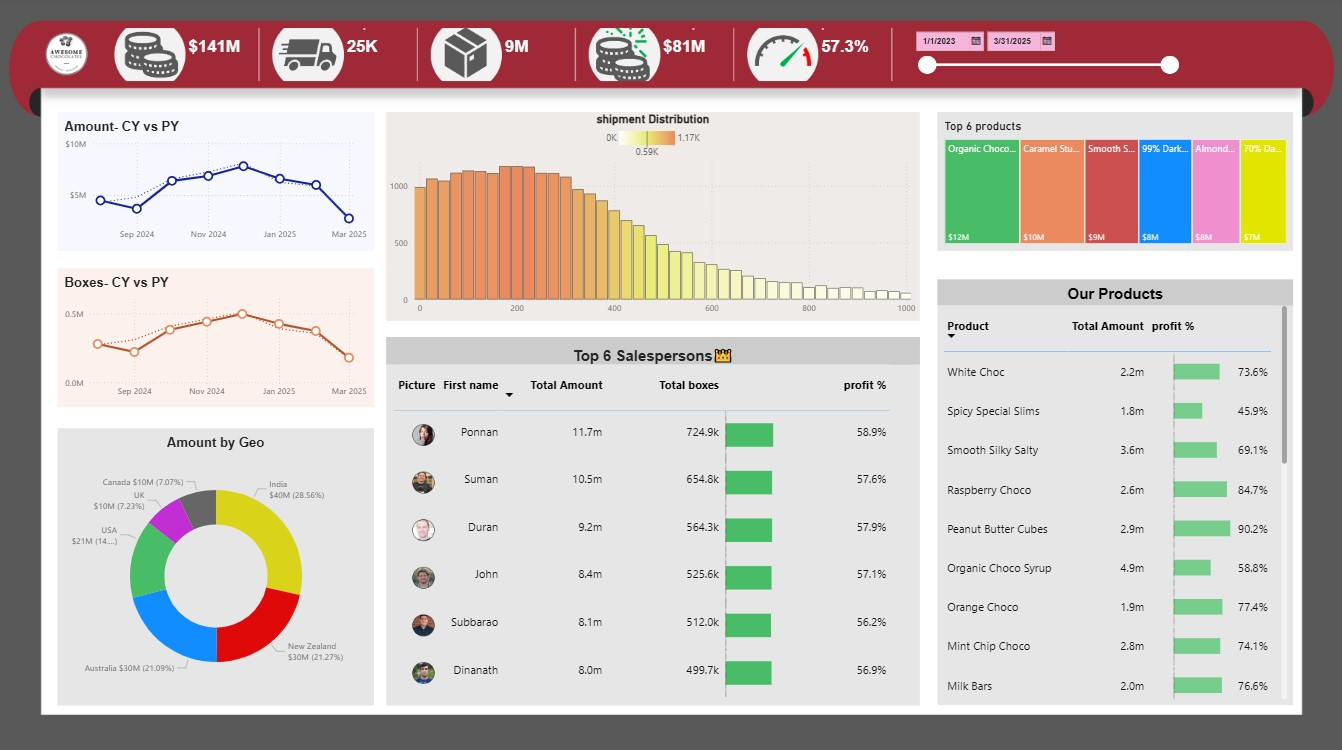

This screenshot's page, from the dashboard's own definition file:
{"tool":"powerbi","page":{"name":"Page 8","canvas":[1920,1080],"ordinal":7},"visuals":[{"type":"lineChart","title":"Amount- CY vs PY","fields":{"Y":["shipments.Total Amount","shipments.Total amount(last year)"],"Category":["calendar.Start of Month"]},"box":[82,164,452,198],"z":0},{"type":"lineChart","title":"Boxes- CY vs PY","fields":{"Y":["shipments.Total boxes","shipments.Total Boxes(last year)"],"Category":["calendar.Start of Month"]},"box":[82,388,452,198],"z":1000},{"type":"donutChart","title":"Amount by Geo","fields":{"Category":["locations.Geo"],"Y":["shipments.Total Amount"]},"box":[82,616,452,396],"z":2000},{"type":"columnChart","title":"shipment Distribution","fields":{"Y":["shipments.shipment count"],"Category":["shipments.Boxes (bins)"]},"box":[552,164,762,298],"z":3000},{"type":"tableEx","title":"Top 6 Salespersons👑","fields":{"Values":["people.Picture","people.First name","shipments.Total Amount","shipments.Total boxes","shipments.profit %"]},"box":[552,486,762,526],"z":4000},{"type":"treemap","title":"Top 6 products ","fields":{"Group":["products.Product"],"Values":["shipments.Total Amount"]},"box":[1340,164,508,198],"z":5000},{"type":"tableEx","title":"Our Products","fields":{"Values":["products.Product","shipments.Total Amount","shipments.profit %"]},"box":[1340,404,508,608],"z":6000},{"type":"cardVisual","fields":{"Data":["shipments.Total Amount","shipments.shipment count","shipments.Total boxes","shipments.Total profit","shipments.profit %"]},"box":[148,40,1134,86],"z":7000},{"type":"slicer","fields":{"Values":["calendar.cal_date"]},"box":[1296,40,396,86],"z":8000}]}

Visuals, with their boxes in screenshot pixels (x1, y1, x2, y2), scaled from the page's 1920x1080 canvas onto the 1342x750 screenshot:
"Amount- CY vs PY" lineChart: 57:114:373:251
"Boxes- CY vs PY" lineChart: 57:269:373:407
"Amount by Geo" donutChart: 57:428:373:703
"shipment Distribution" columnChart: 386:114:918:321
"Top 6 Salespersons👑" tableEx: 386:338:918:703
"Top 6 products " treemap: 937:114:1292:251
"Our Products" tableEx: 937:281:1292:703
cardVisual - shipments.Total Amount x shipments.shipment count: 103:28:896:88
slicer - calendar.cal_date: 906:28:1183:88
